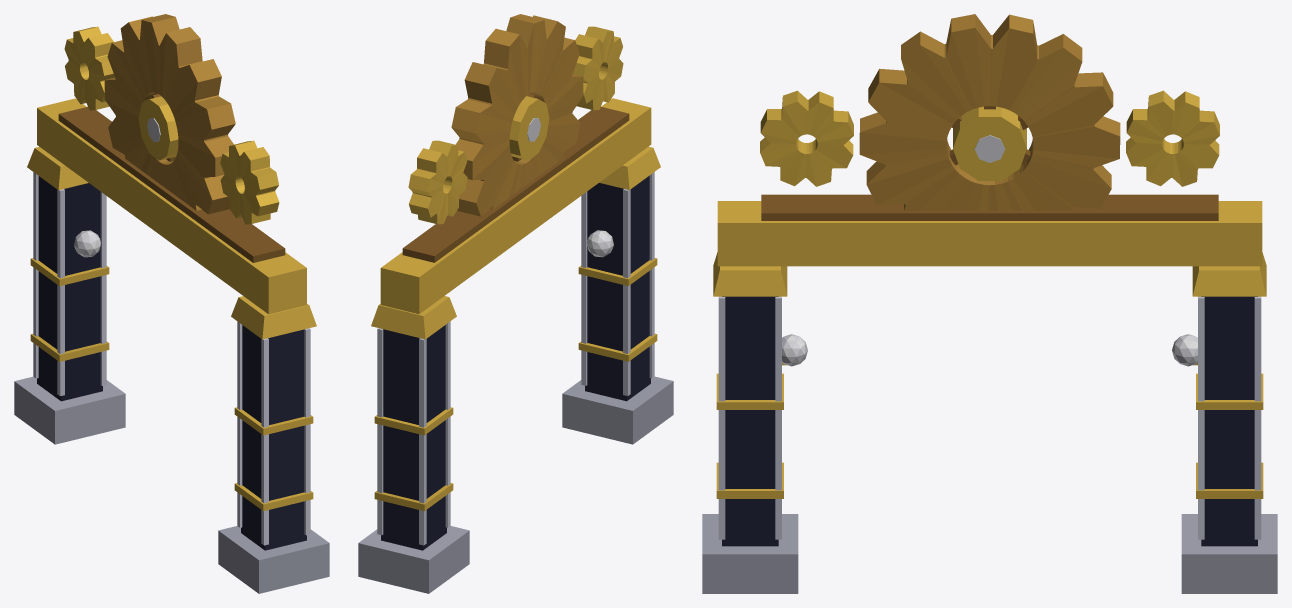
Rendered from Decor_ClockTower_CogGate.fbx.
3 renders of one model, left to right at view 1: azimuth 30°, elevation 25°; view 2: azimuth 150°, elevation 25°; view 3: azimuth 270°, elevation 25°, orthographic. The views are drawn at different scales.
Visible parts, largest first — view 1: CogGate_Body; view 2: CogGate_Body; view 3: CogGate_Body.
Part boxes in pixels (x1,y1,x2,y2): CogGate_Body: (14, 14, 329, 593); CogGate_Body: (358, 14, 673, 593); CogGate_Body: (702, 14, 1277, 593).
Bounding box in the file's own units: 4.4 × 28 × 26.4.
